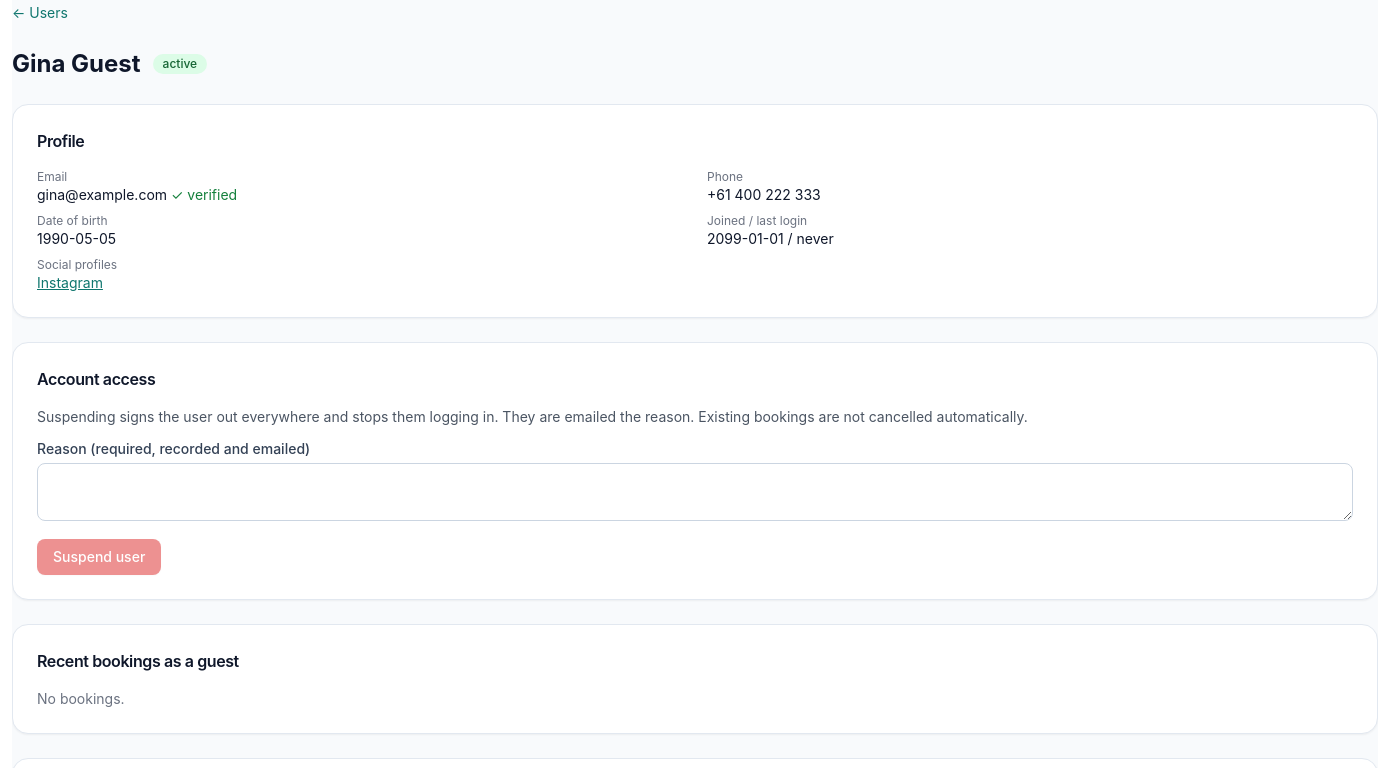
Test: admin users › suspends only with a reason, then offers reactivation
The image size is (1378, 768).
Expected: the button "Suspend user" is disabled, [37,539,161,575]
Expected: the text "+61 400 222 333" is shown, [707,186,821,203]
Type "Fraud report" into the text box labelled "Reason (required, recorded and emailed)" at (695, 492), box [37,463,1353,521]
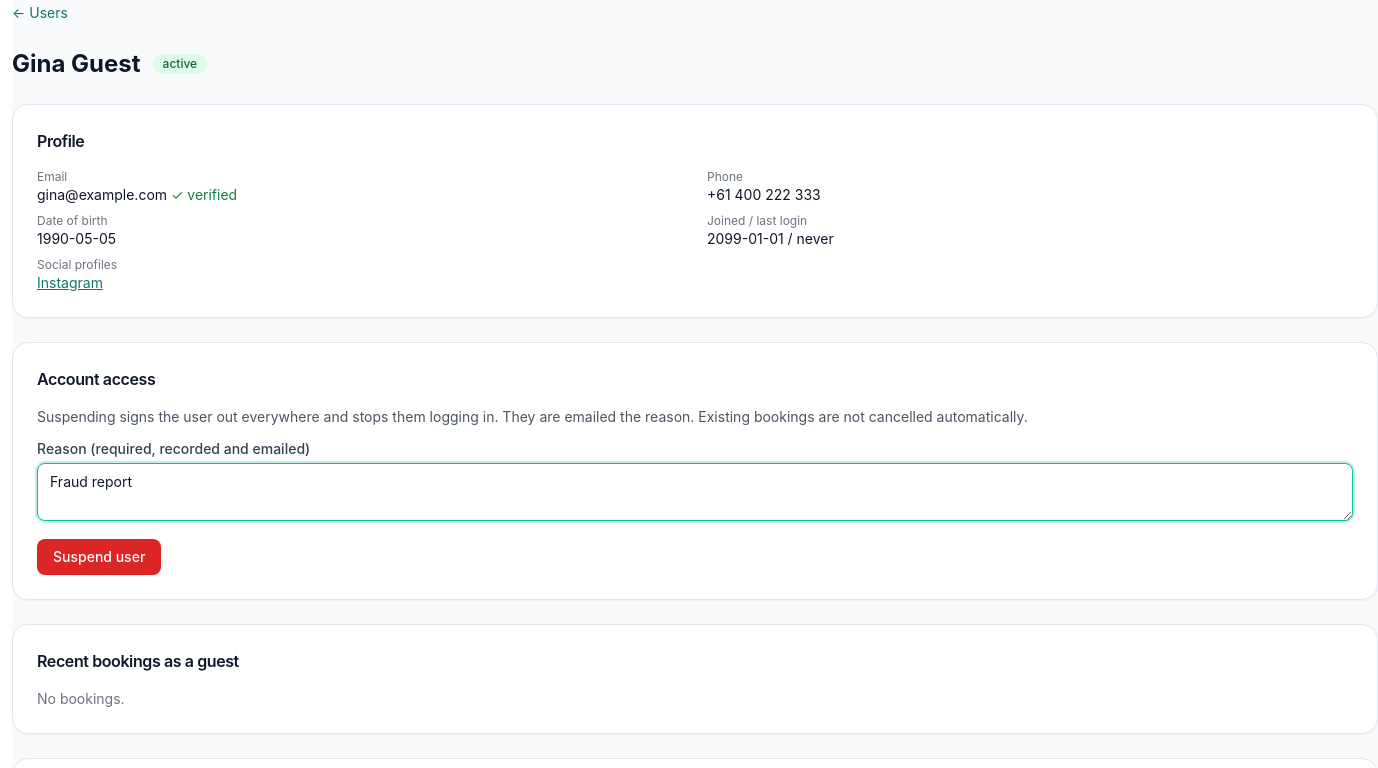
Click the button "Suspend user" at (99, 557), box [37,539,161,575]
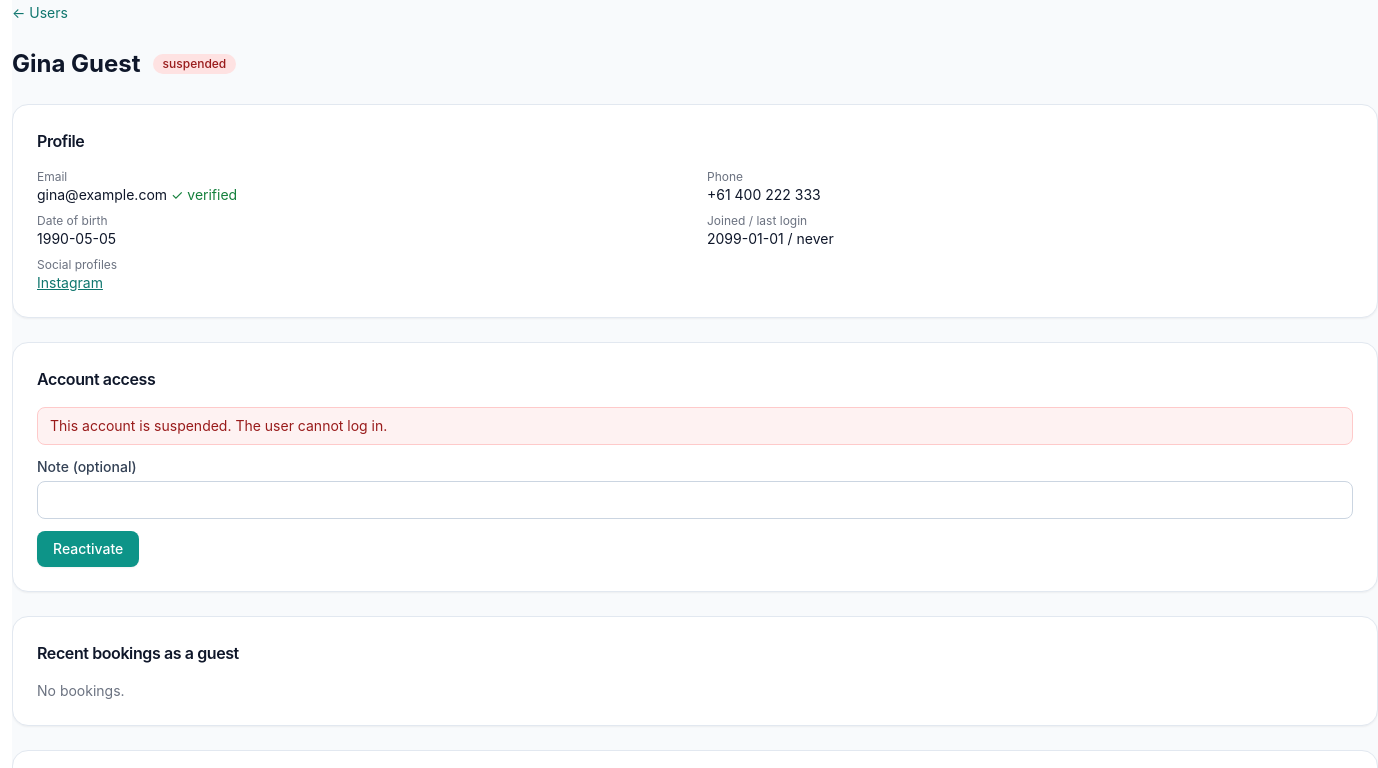
Now the text "This account is suspended. The user cannot log in." is shown, box [37,407,1353,445]
Click the button "Reactivate" at (88, 549), box [37,531,139,567]
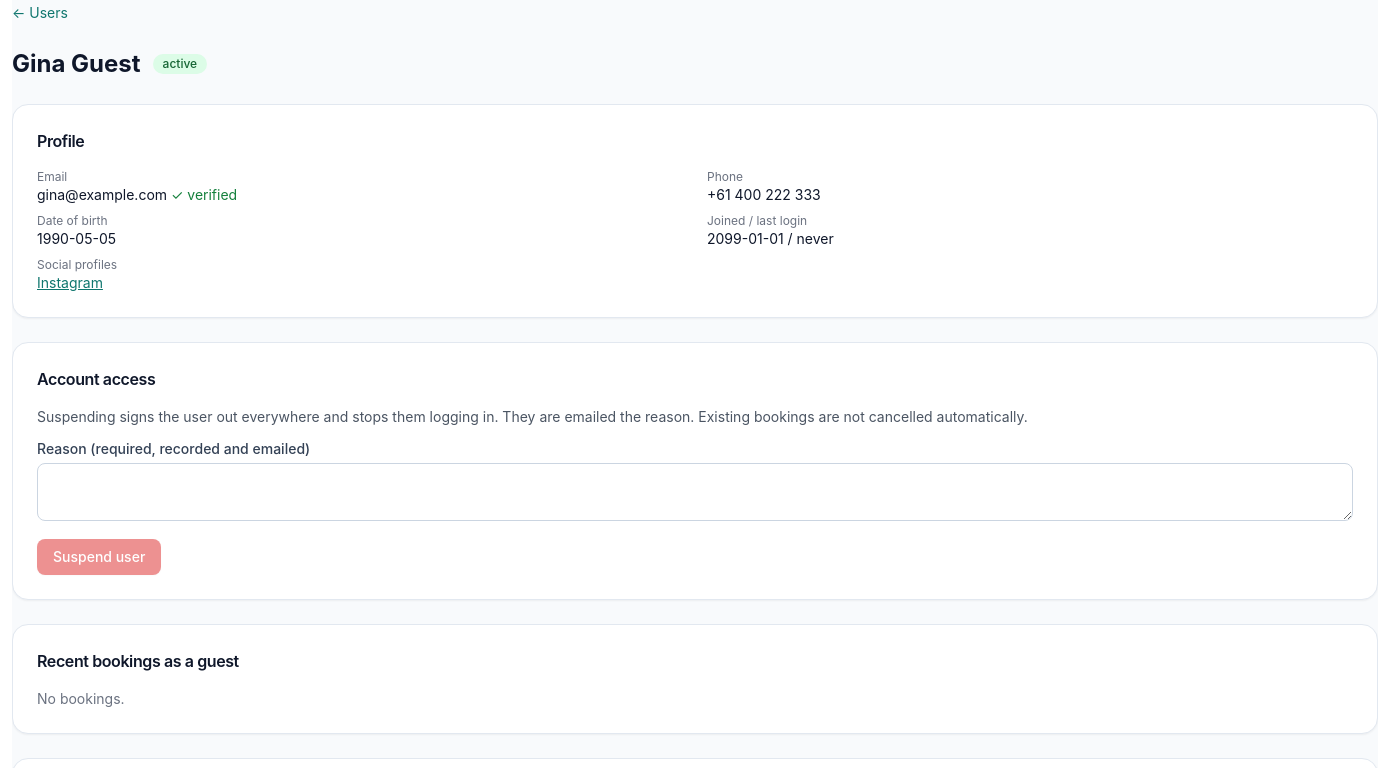
Now the button "Suspend user" is shown, box [37,539,161,575]
